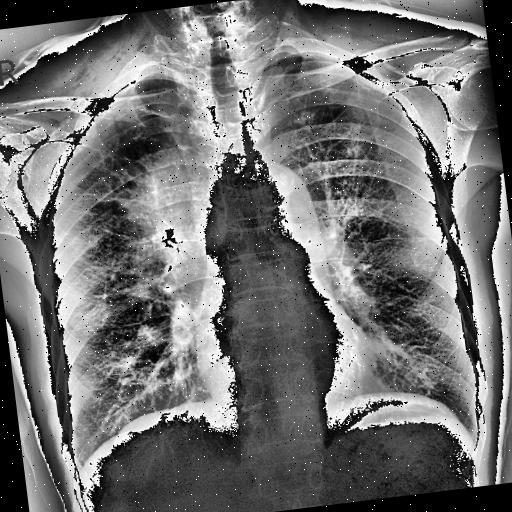0- Aortic enlargement: (240, 161, 320, 246)
13- Pulmonary fibrosis: (42, 124, 210, 412)
4- Consolidation: (124, 158, 212, 296)
5- ILD: (42, 124, 210, 412), (354, 146, 474, 404)
8- Nodule-Mass: (121, 148, 214, 291), (124, 158, 212, 296), (124, 156, 213, 274)
9- Other lesion: (42, 124, 210, 412), (354, 146, 474, 404)
